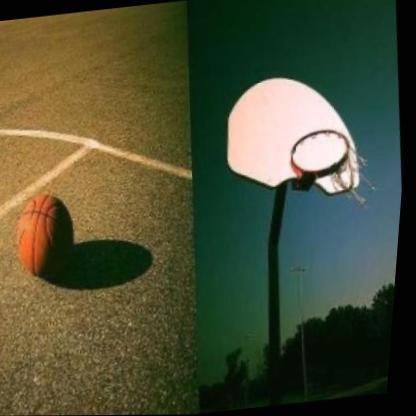basketball: (3, 180, 92, 287)
